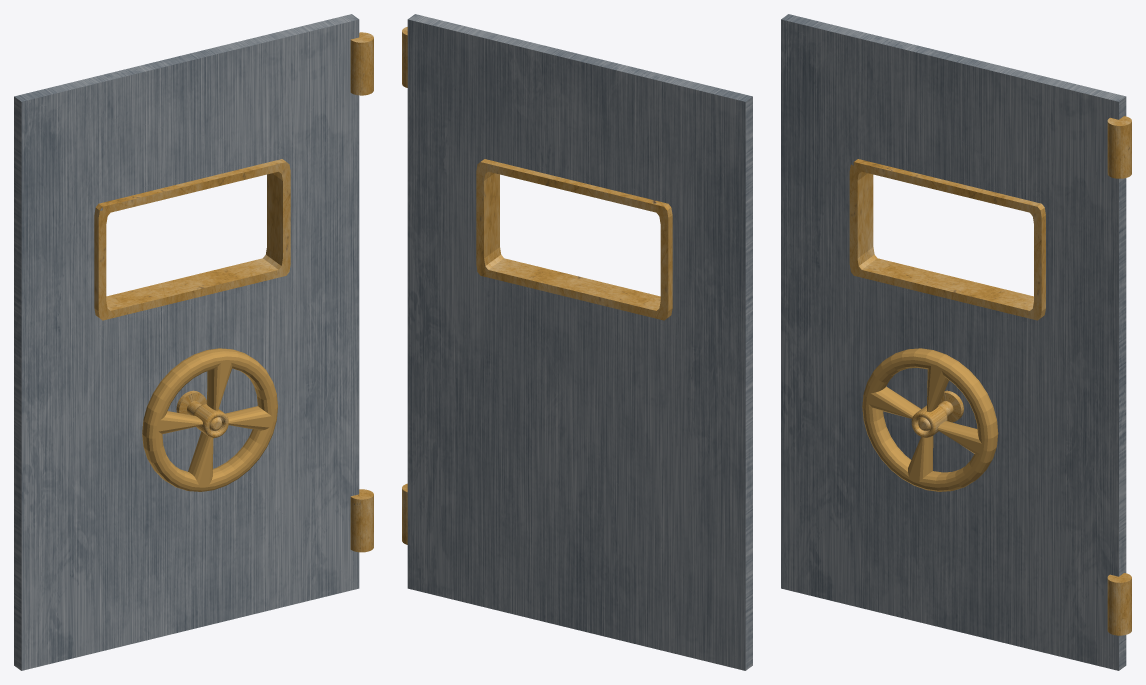
Rendered from door.fbx.
3 renders of one model, left to right at view 1: azimuth 30°, elevation 25°; view 2: azimuth 150°, elevation 25°; view 3: azimuth 330°, elevation 25°, orthographic.
Visible parts, largest first — view 1: Cylinder.066; view 2: Cylinder.066; view 3: Cylinder.066.
Boxes of the visible parts, x1,y1,x2,y2 form: Cylinder.066: [14, 14, 373, 670]; Cylinder.066: [402, 14, 752, 670]; Cylinder.066: [781, 14, 1131, 670].
Size of the model in its own units: 77.61 by 121 by 14.98.
Materials: 2 (2 with a texture image).
